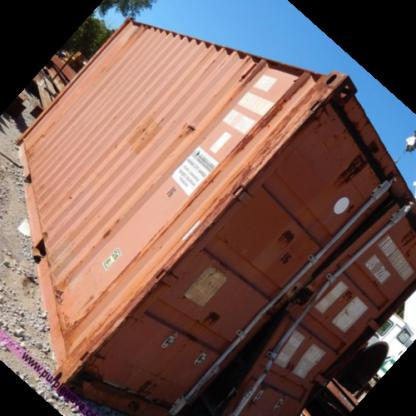Damage: (232, 290, 314, 415), (238, 84, 334, 174), (42, 261, 90, 335), (344, 124, 380, 190), (124, 360, 167, 415), (272, 214, 300, 270), (98, 197, 122, 241), (174, 105, 198, 138), (197, 303, 225, 330)
